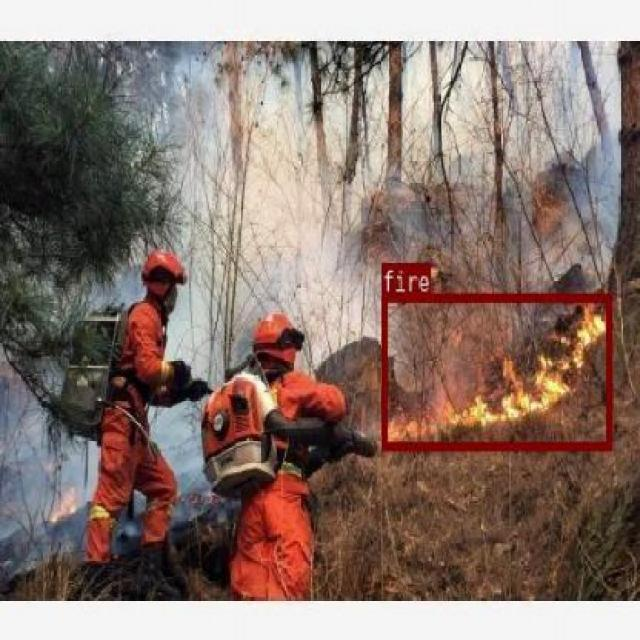fire: (380, 292, 612, 448)
